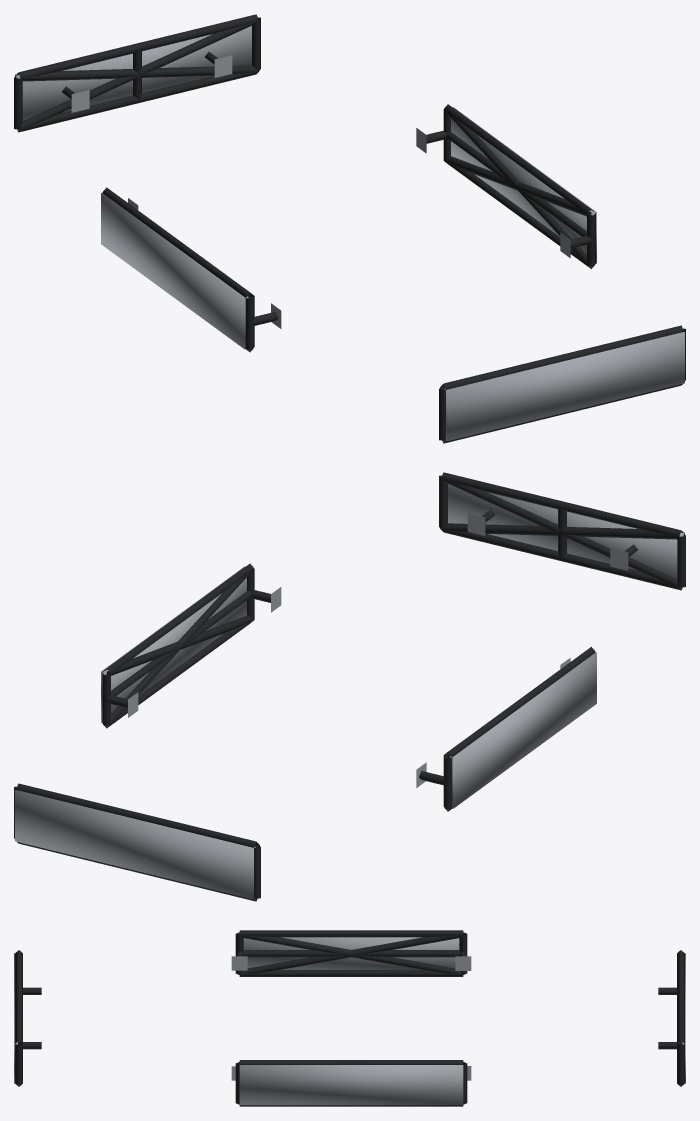
Rendered from hayase_arpao_protecao.glb.
3 views of the same model, one above another, from view 1: azimuth 30°, elevation 25°; view 2: azimuth 150°, elevation 25°; view 3: azimuth 270°, elevation 25° (orthographic). The views are drawn at different scales.
Parts seen in each view (by area): view 1: Protection_front_Level3_Details, Protection_left_Level3_Details, Protection_rear_Level1_Details, Protection_rear_Level3_Details, Protection_rear_Level2_Details, Protection_right_Level1_Details, Protection_right_Level2_Details, Protection_right_Level3_Details, Protection_front_Level1_Details, Protection_left_Level1_Details; view 2: Protection_rear_Level3_Details, Protection_left_Level3_Details, Protection_front_Level1_Details, Protection_front_Level3_Details, Protection_front_Level2_Details, Protection_right_Level1_Details, Protection_right_Level2_Details, Protection_right_Level3_Details, Protection_rear_Level1_Details, Protection_left_Level1_Details; view 3: Protection_right_Level3_Details, Protection_left_Level2_Details, Protection_left_Level1_Details, Protection_left_Level3_Details, Protection_right_Level1_Details, Protection_rear_Level1_Details, Protection_front_Level1_Details.
Part boxes in pixels (bbox=[...]): Protection_front_Level3_Details: bbox=[444, 332, 684, 441]; Protection_left_Level3_Details: bbox=[101, 193, 248, 349]; Protection_rear_Level1_Details: bbox=[14, 14, 260, 132]; Protection_rear_Level3_Details: bbox=[15, 26, 251, 120]; Protection_rear_Level2_Details: bbox=[16, 21, 258, 131]; Protection_right_Level1_Details: bbox=[416, 104, 595, 268]; Protection_right_Level2_Details: bbox=[444, 110, 594, 268]; Protection_right_Level3_Details: bbox=[451, 107, 596, 263]; Protection_front_Level1_Details: bbox=[439, 325, 685, 443]; Protection_left_Level1_Details: bbox=[102, 187, 281, 352]; Protection_rear_Level3_Details: bbox=[15, 790, 255, 899]; Protection_left_Level3_Details: bbox=[449, 652, 596, 808]; Protection_front_Level1_Details: bbox=[439, 472, 685, 590]; Protection_front_Level3_Details: bbox=[448, 484, 684, 578]; Protection_front_Level2_Details: bbox=[441, 479, 683, 589]; Protection_right_Level1_Details: bbox=[102, 563, 281, 728]; Protection_right_Level2_Details: bbox=[103, 570, 253, 727]; Protection_right_Level3_Details: bbox=[101, 566, 246, 722]; Protection_rear_Level1_Details: bbox=[14, 783, 260, 901]; Protection_left_Level1_Details: bbox=[416, 647, 595, 811]; Protection_right_Level3_Details: bbox=[239, 1065, 463, 1105]; Protection_left_Level2_Details: bbox=[239, 933, 463, 974]; Protection_left_Level1_Details: bbox=[231, 930, 471, 976]; Protection_left_Level3_Details: bbox=[243, 937, 459, 969]; Protection_right_Level1_Details: bbox=[231, 1060, 471, 1106]; Protection_rear_Level1_Details: bbox=[658, 950, 684, 1086]; Protection_front_Level1_Details: bbox=[15, 950, 41, 1086].
Size of the model in its own units: 2.17 by 0.354 by 4.6.
1 material, 1 textured.
